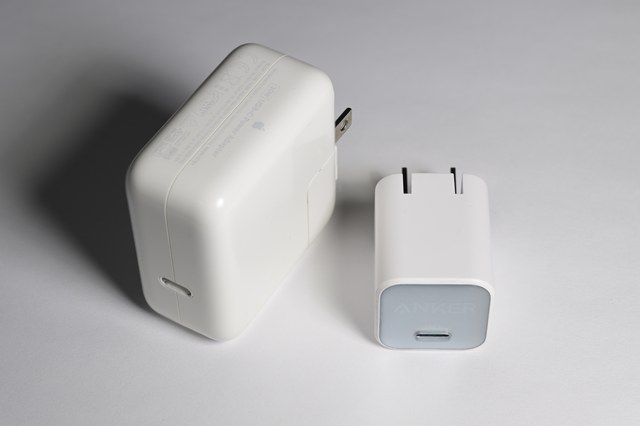Ambrane Charger Adapter: (32, 21, 608, 405)
